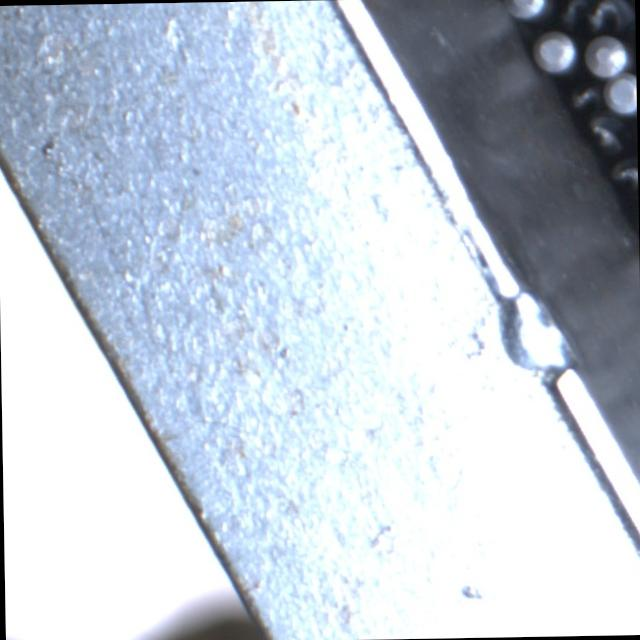tool: (584, 34, 630, 76), (535, 31, 579, 72), (604, 72, 636, 114), (503, 0, 551, 17)
tool_b: (579, 112, 625, 155), (578, 0, 634, 29), (605, 153, 638, 196), (565, 80, 603, 112), (553, 0, 585, 29)
